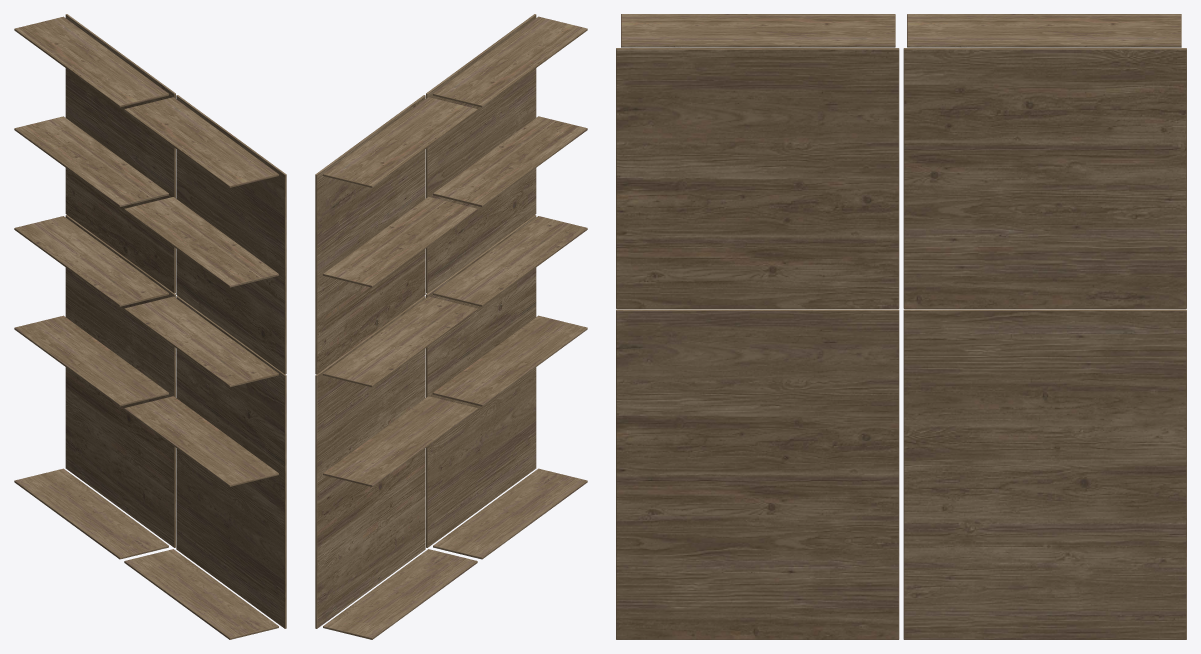
File: rackFlowersDefoult1.gltf
3 views of the same model, side by side, from view 1: azimuth 30°, elevation 25°; view 2: azimuth 150°, elevation 25°; view 3: azimuth 270°, elevation 25° (orthographic). The views are drawn at different scales.
Parts seen in each view (by area): view 1: rackFlowersDefoult1; view 2: rackFlowersDefoult1; view 3: rackFlowersDefoult1.
Boxes of the visible parts, x1,y1,x2,y2 form: rackFlowersDefoult1: (14,14,286,639); rackFlowersDefoult1: (315,14,587,639); rackFlowersDefoult1: (616,14,1186,639).
Bounding box in the file's own units: 1.16 × 9.12 × 7.98.
Materials: 1 (1 with a texture image).
